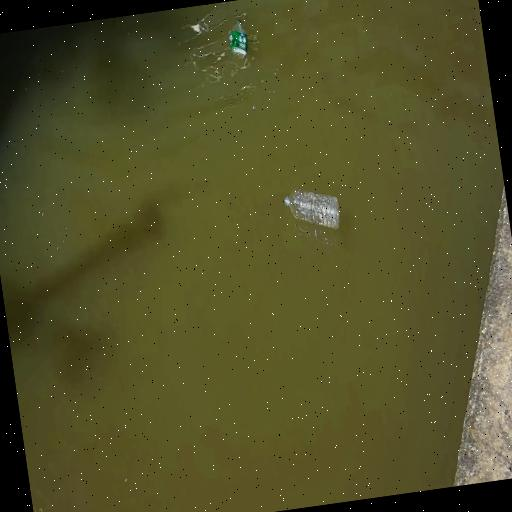plastic: (282, 182, 344, 237), (226, 16, 250, 63)
